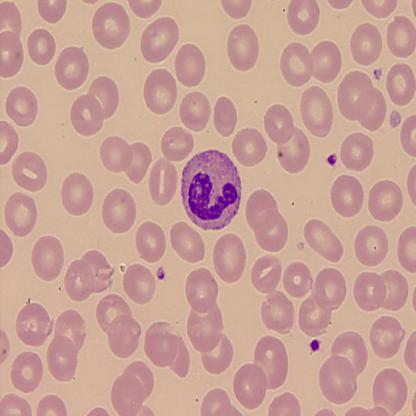Segmented neutrophil: (178, 148, 244, 232)
